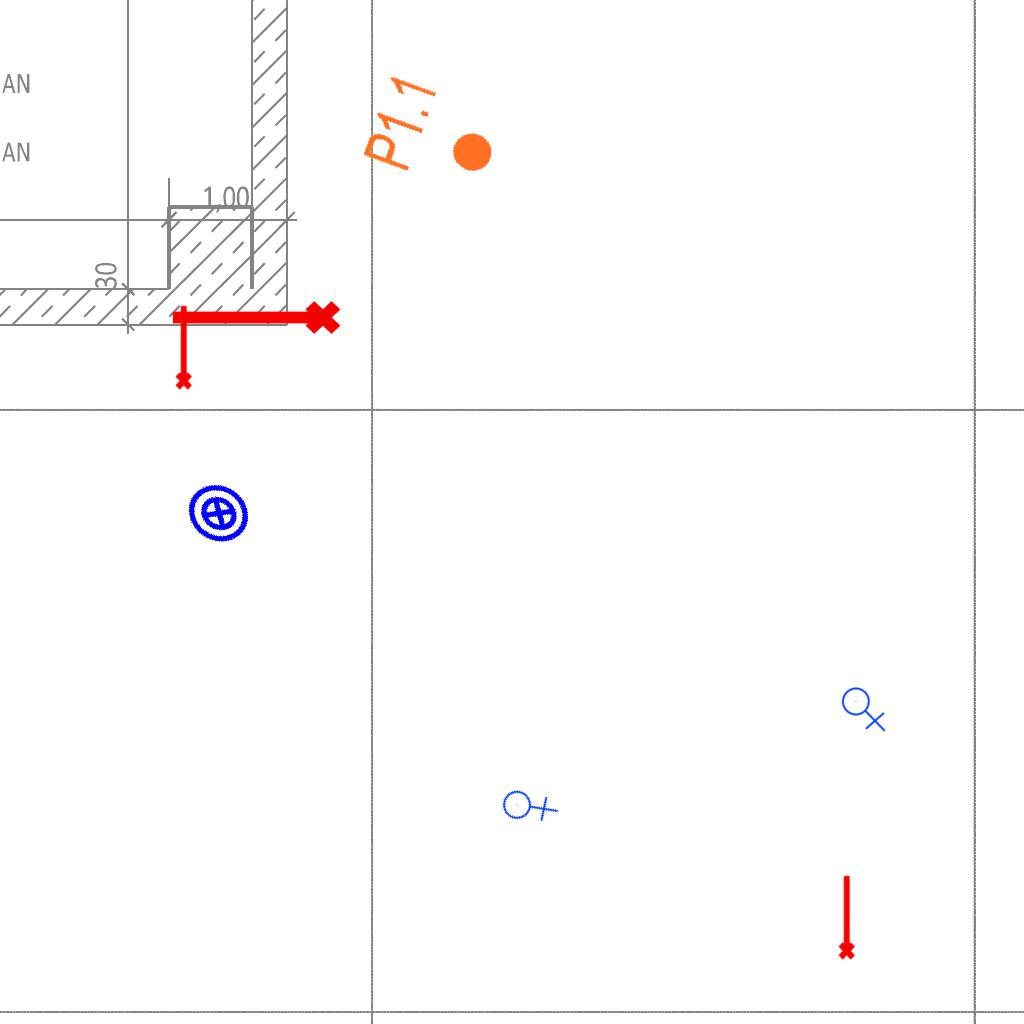ASR_Ansaugoeffnung: (167, 297, 343, 343), (834, 873, 857, 961), (171, 303, 194, 391)
Downlight_LED_Einbauleuchten_Flur: (358, 69, 511, 201)
Elektroanschluss_allgemein_230V_Geraeteanschlussdose_230V: (493, 770, 562, 839), (841, 683, 888, 732)
Taster_beleuchtet: (173, 467, 265, 559)
